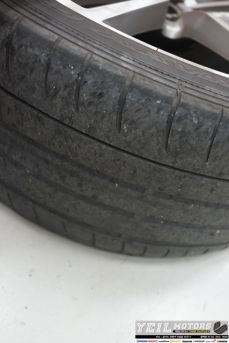bad_condition: (3, 52, 229, 259)
